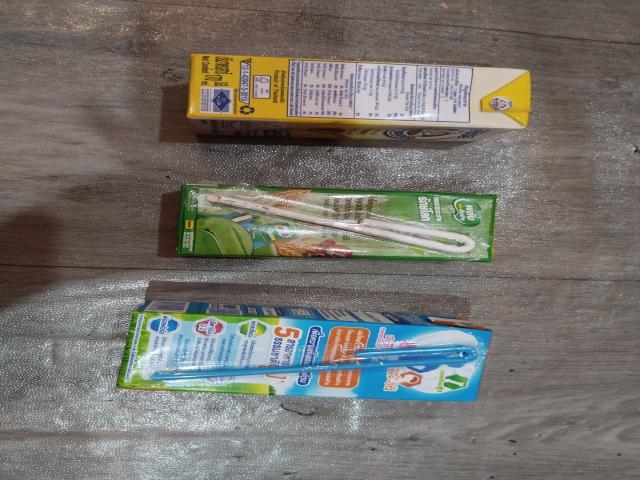drink_box: (99, 296, 502, 406), (180, 50, 544, 145), (157, 180, 527, 268)
